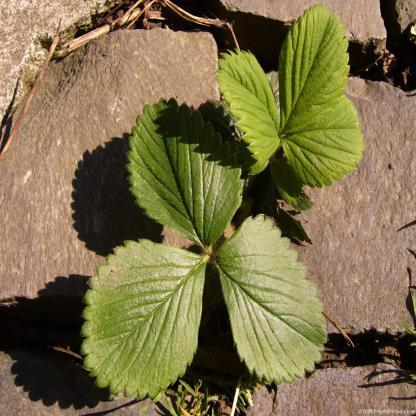Strawberry leaf: (80, 240, 204, 402), (216, 209, 330, 380), (128, 92, 244, 242), (282, 3, 350, 137), (214, 42, 286, 155), (284, 90, 364, 191)
